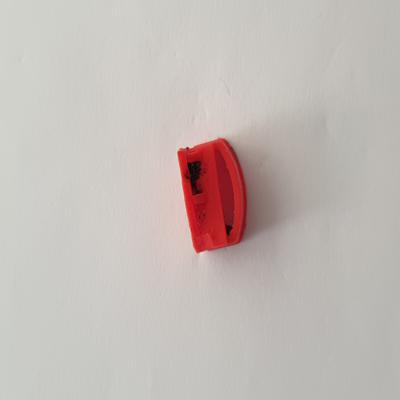plastic: (172, 132, 252, 261)
